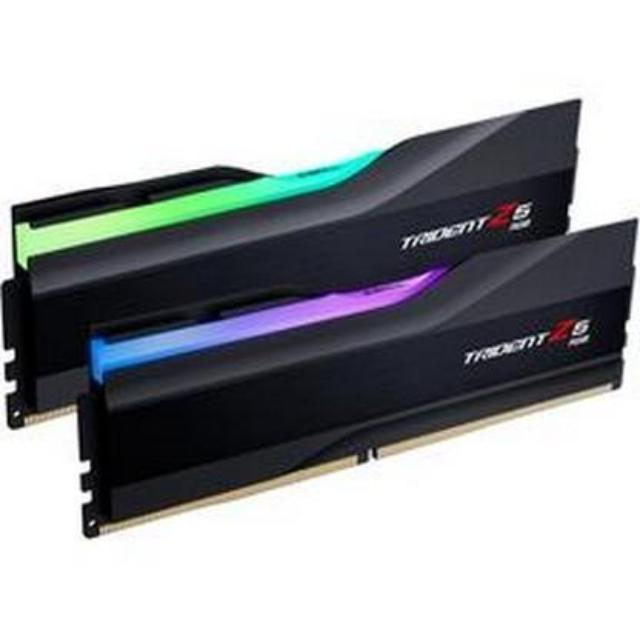RAM: (0, 91, 640, 546)
